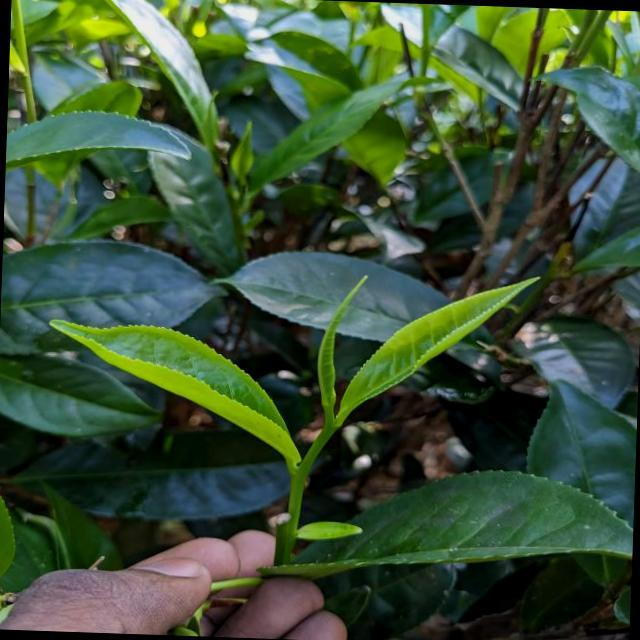Stem: (291, 470, 304, 493)
